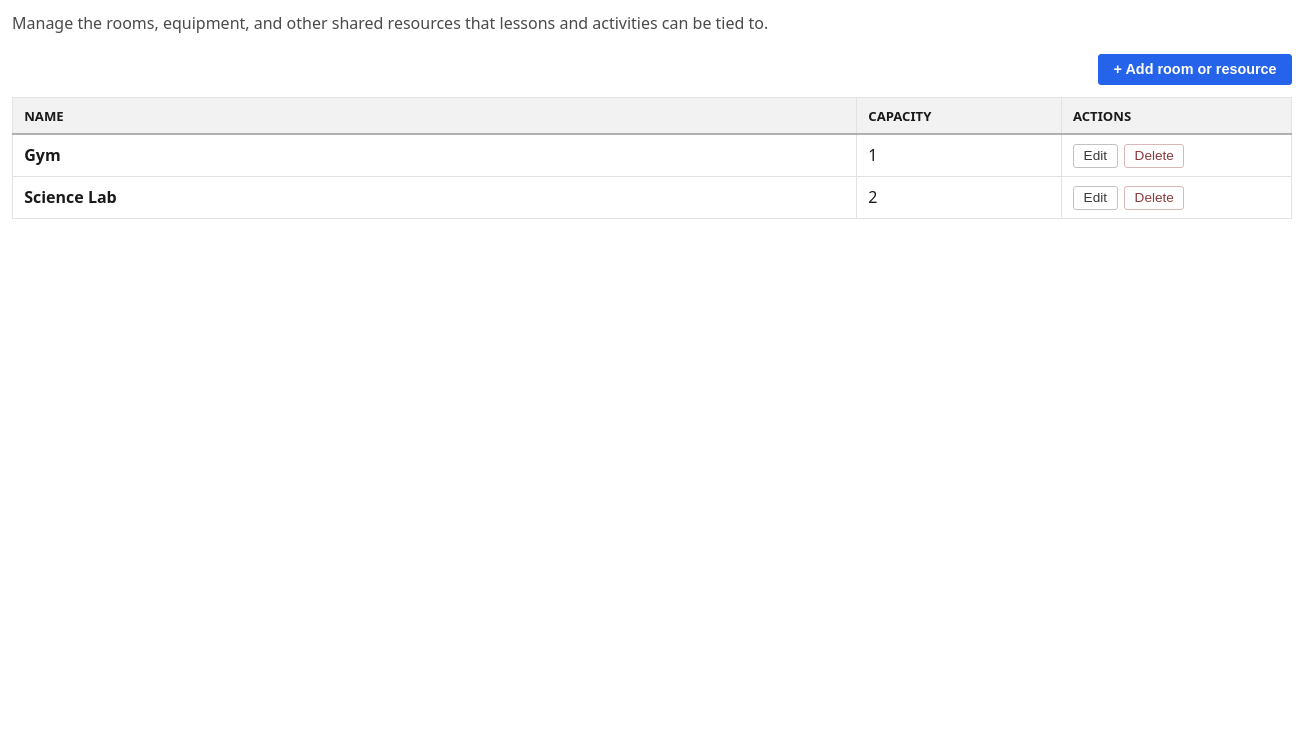
Test: RoomsResourcesPanel › reveals the create form (with capacity defaulting to 1) only after clicking Add
Expected: the column heading "Gym" is shown, [12, 134, 857, 177]
Click the button "+ Add room or resource": (1195, 69) [1098, 54, 1292, 85]
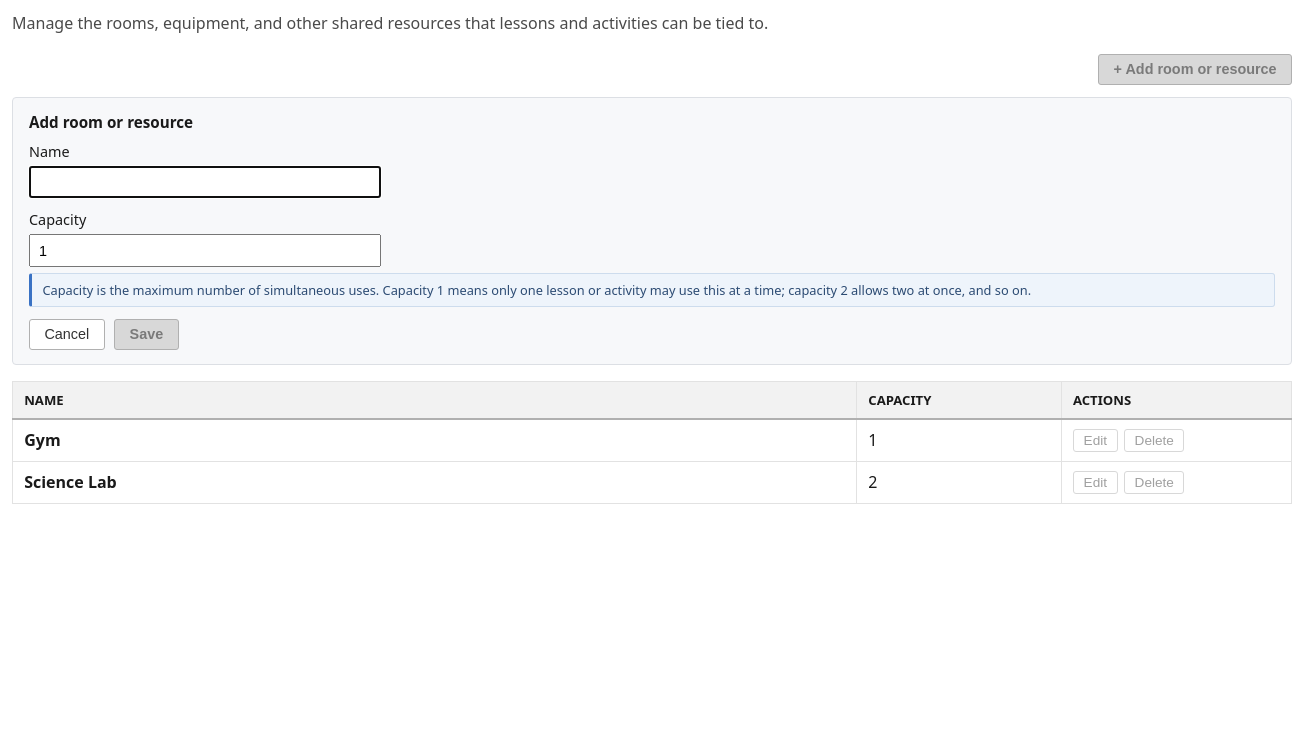
Expected: the field labelled "Name" is shown, [29, 166, 381, 198]
Expected: the number field labelled "Capacity" holds "1", [29, 234, 381, 267]
